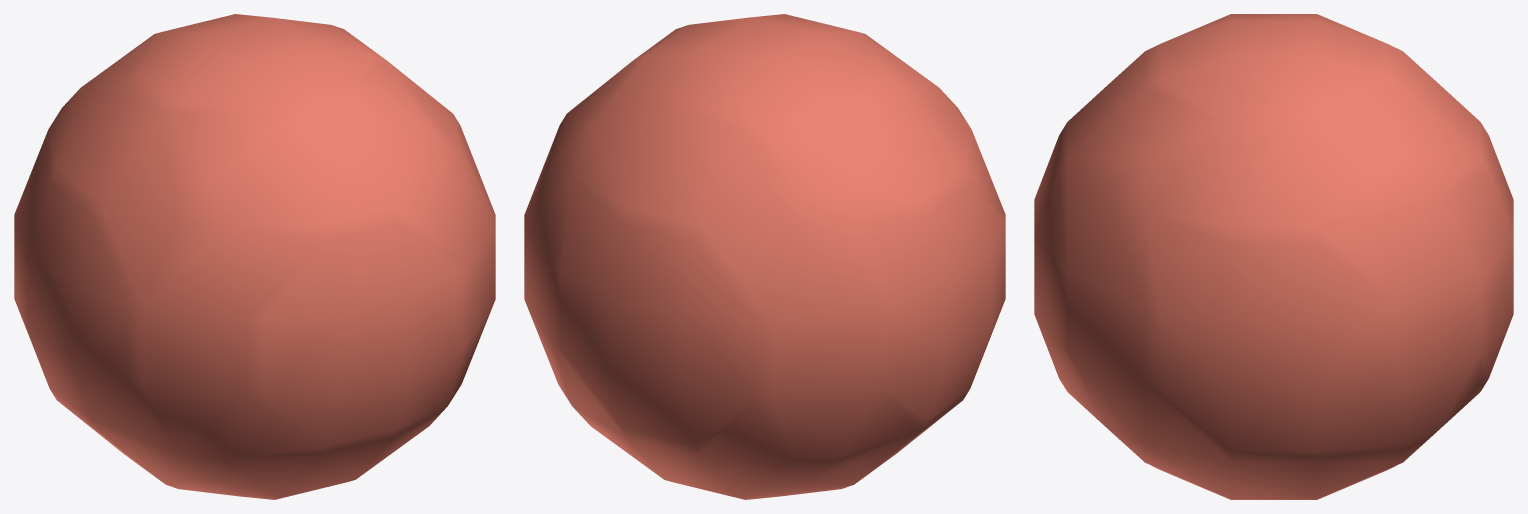
File: ball.fbx
3 renders of one model, left to right at view 1: azimuth 30°, elevation 25°; view 2: azimuth 150°, elevation 25°; view 3: azimuth 270°, elevation 25°, orthographic.
Parts seen in each view (by area): view 1: Mball; view 2: Mball; view 3: Mball.
Part boxes in pixels (x1,y1,x2,y2): Mball: (14, 14, 495, 499); Mball: (524, 14, 1005, 499); Mball: (1034, 14, 1513, 499).
Bounding box in the file's own units: 223 × 223 × 223.
